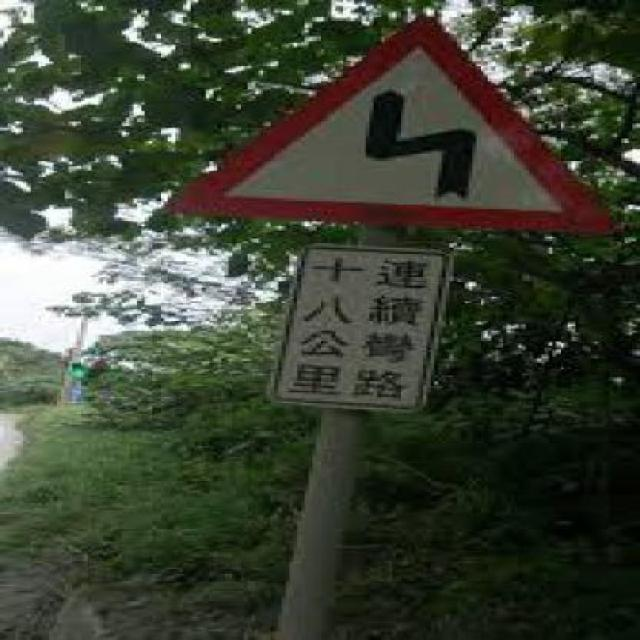warn_double_curve: (199, 36, 599, 233)
